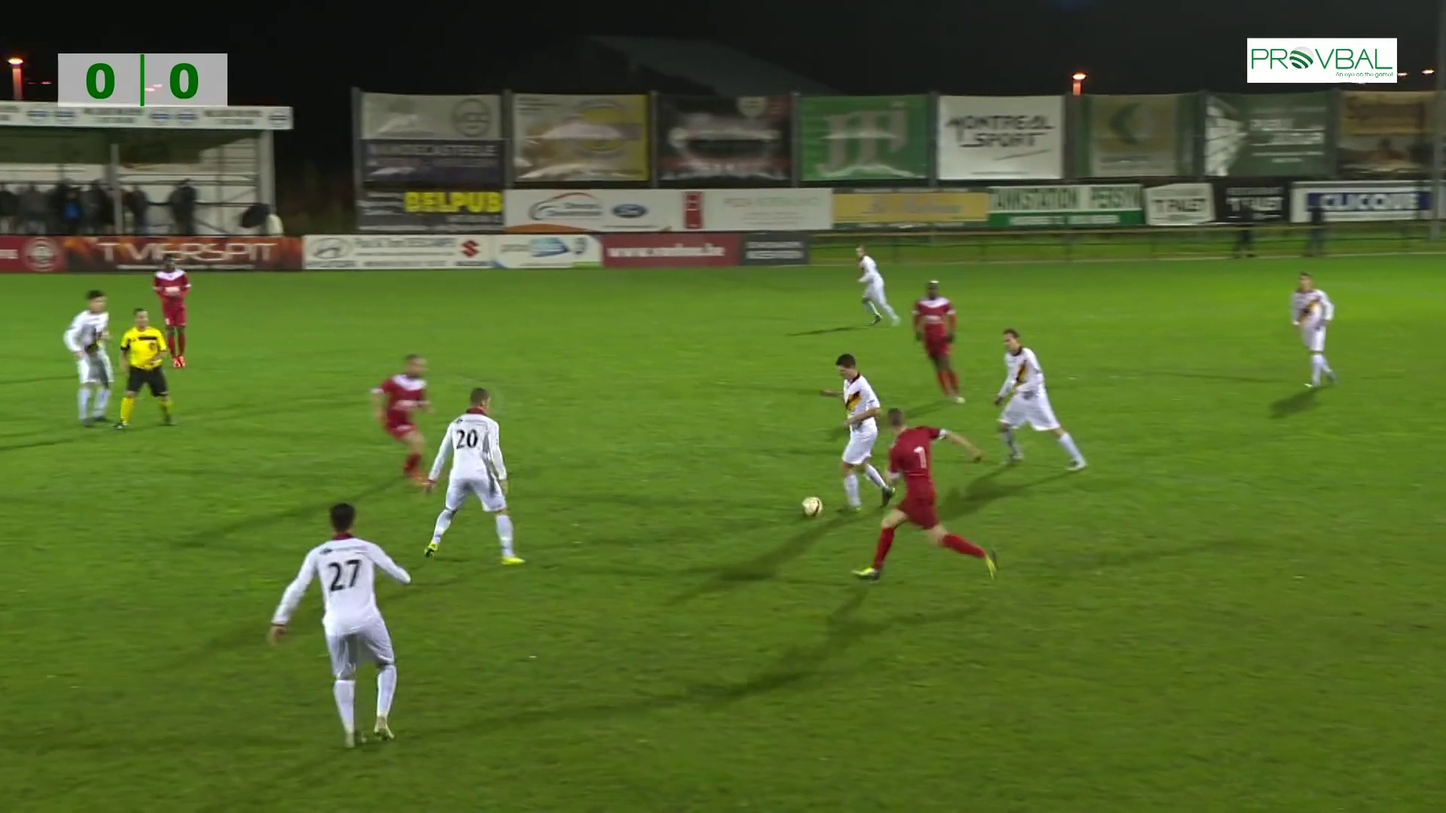red_team: (869, 402, 999, 583), (909, 276, 976, 406), (369, 350, 432, 486), (154, 254, 199, 372)
referee: (120, 308, 178, 425)
white_team: (272, 501, 422, 741), (423, 387, 528, 574), (993, 327, 1091, 479), (816, 351, 896, 511), (61, 286, 116, 425), (1288, 272, 1340, 389), (854, 245, 899, 325)
